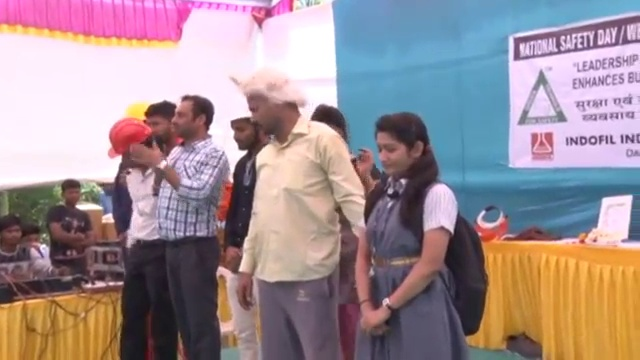helmet: (106, 118, 154, 158), (225, 96, 258, 128)
helmet_off: (367, 114, 435, 184), (241, 75, 298, 146), (168, 95, 216, 147), (306, 107, 348, 149), (143, 105, 178, 146), (0, 209, 23, 252), (59, 179, 82, 208), (20, 224, 46, 249)
helmet_on: (106, 118, 152, 169), (225, 101, 257, 157)
person: (238, 82, 365, 360), (353, 101, 487, 360), (140, 95, 229, 360), (106, 118, 174, 359), (222, 98, 265, 359), (45, 180, 94, 290), (2, 208, 60, 294)
